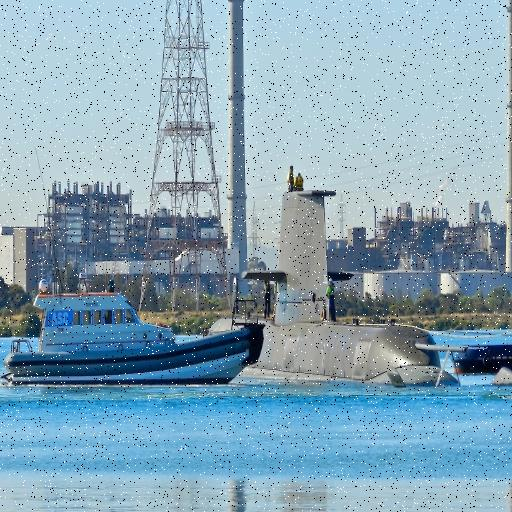submarine: (206, 188, 465, 387)
